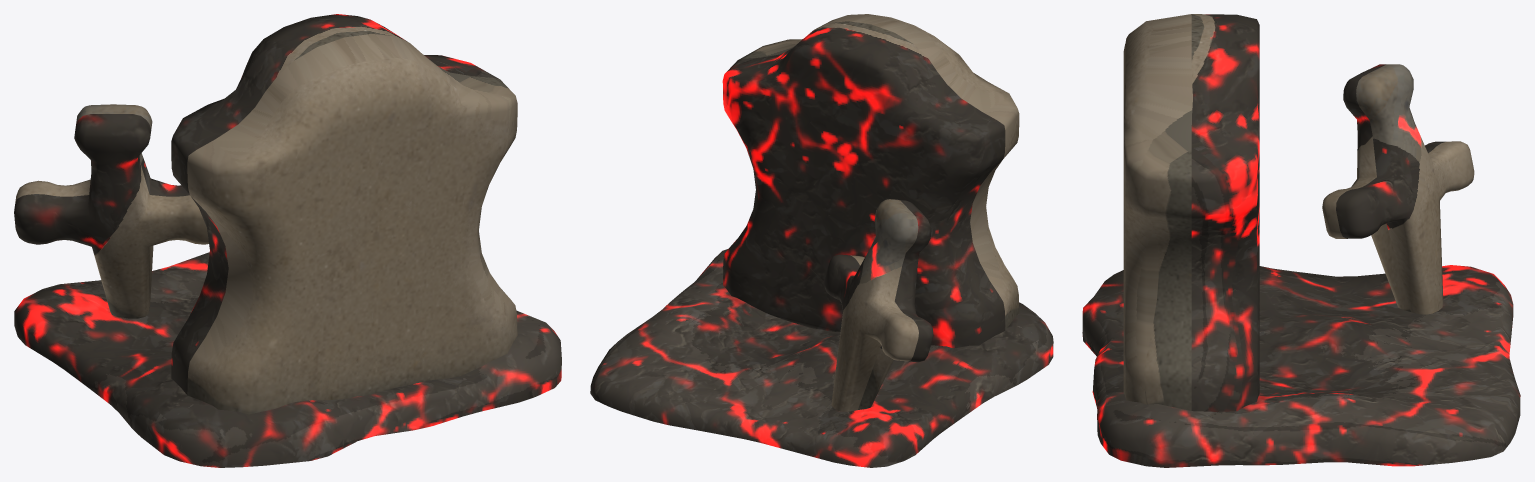
File: SM_PRP_SkullGraveyard.fbx
The picture shows the model from 3 angles, left to right: view 1: azimuth 30°, elevation 25°; view 2: azimuth 150°, elevation 25°; view 3: azimuth 270°, elevation 25°; orthographic projection. The views are drawn at different scales.
Visible parts, largest first — view 1: m_Graveyard_low; view 2: m_Graveyard_low; view 3: m_Graveyard_low.
Part boxes in pixels (left/top/right/bottom): m_Graveyard_low: left=14, top=14, right=561, bottom=467; m_Graveyard_low: left=590, top=14, right=1053, bottom=467; m_Graveyard_low: left=1082, top=14, right=1520, bottom=467.
Bounding box in the file's own units: 334 × 292 × 331.
